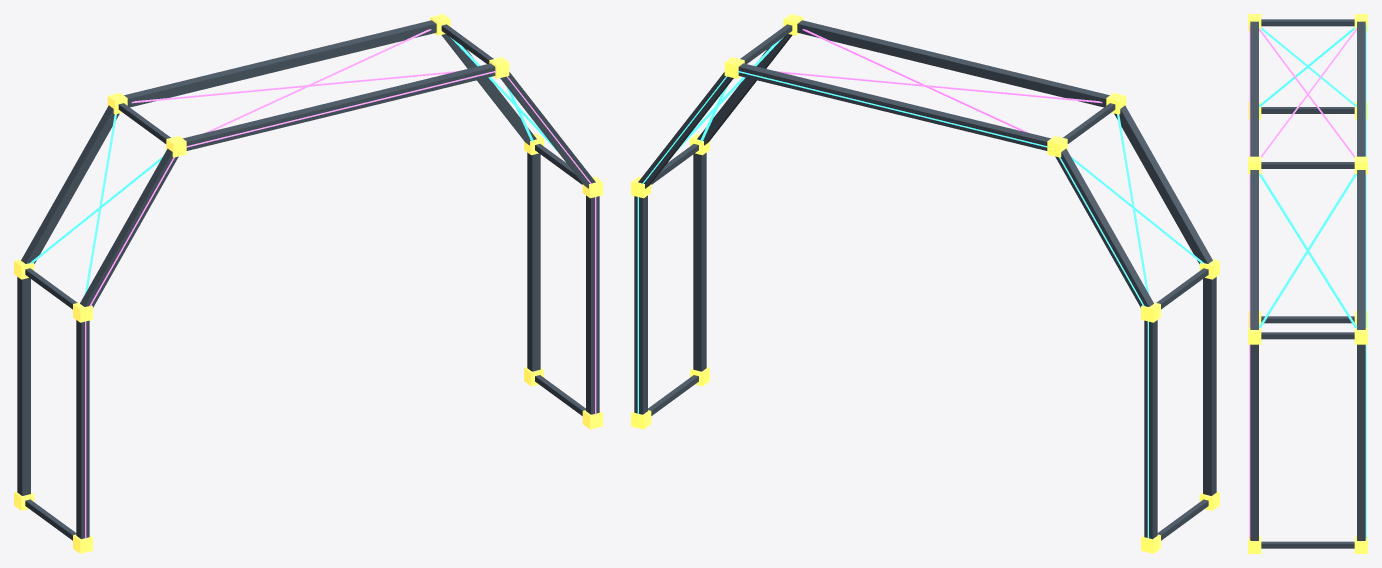
File: lattice_arch.glb
The picture shows the model from 3 angles, left to right: view 1: azimuth 30°, elevation 25°; view 2: azimuth 150°, elevation 25°; view 3: azimuth 270°, elevation 25°; orthographic projection. The views are drawn at different scales.
Visible parts, largest first — view 1: lattice_arch; view 2: lattice_arch; view 3: lattice_arch.
Part boxes in pixels (x1,y1,x2,y2): lattice_arch: (14, 14, 602, 553); lattice_arch: (631, 14, 1219, 553); lattice_arch: (1248, 14, 1367, 553).
Bounding box in the file's own units: 123 × 87 × 27.
